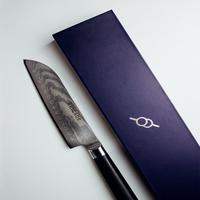knife: (18, 54, 131, 200)
